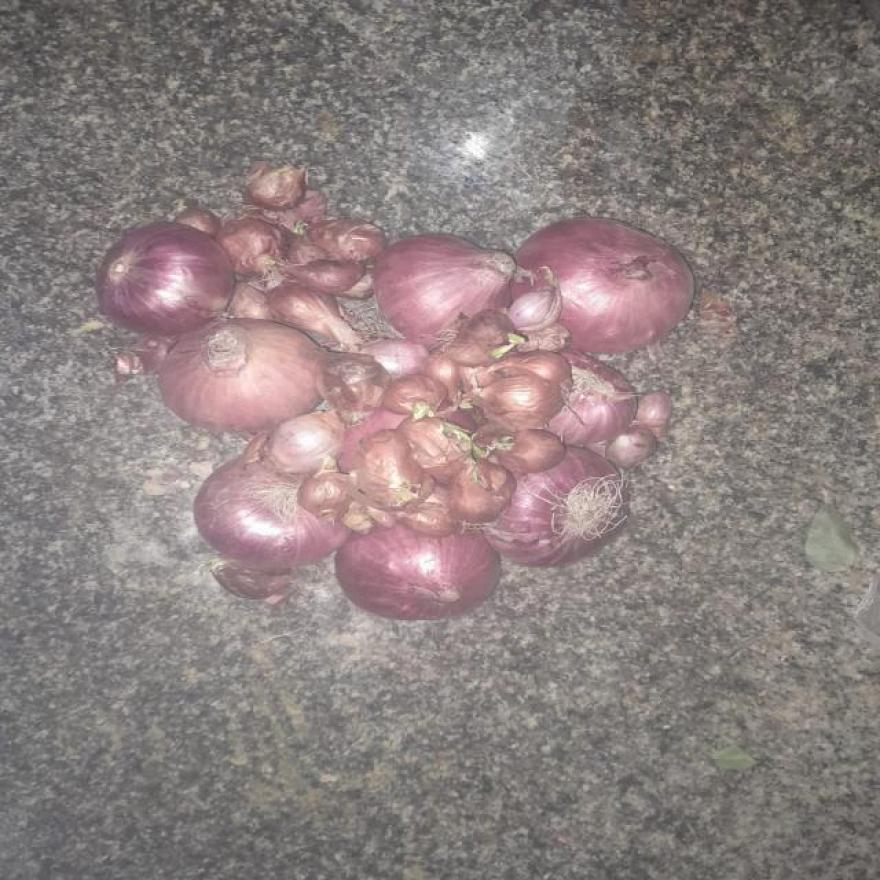Sprouted: (469, 443, 513, 459), (410, 405, 436, 420)
